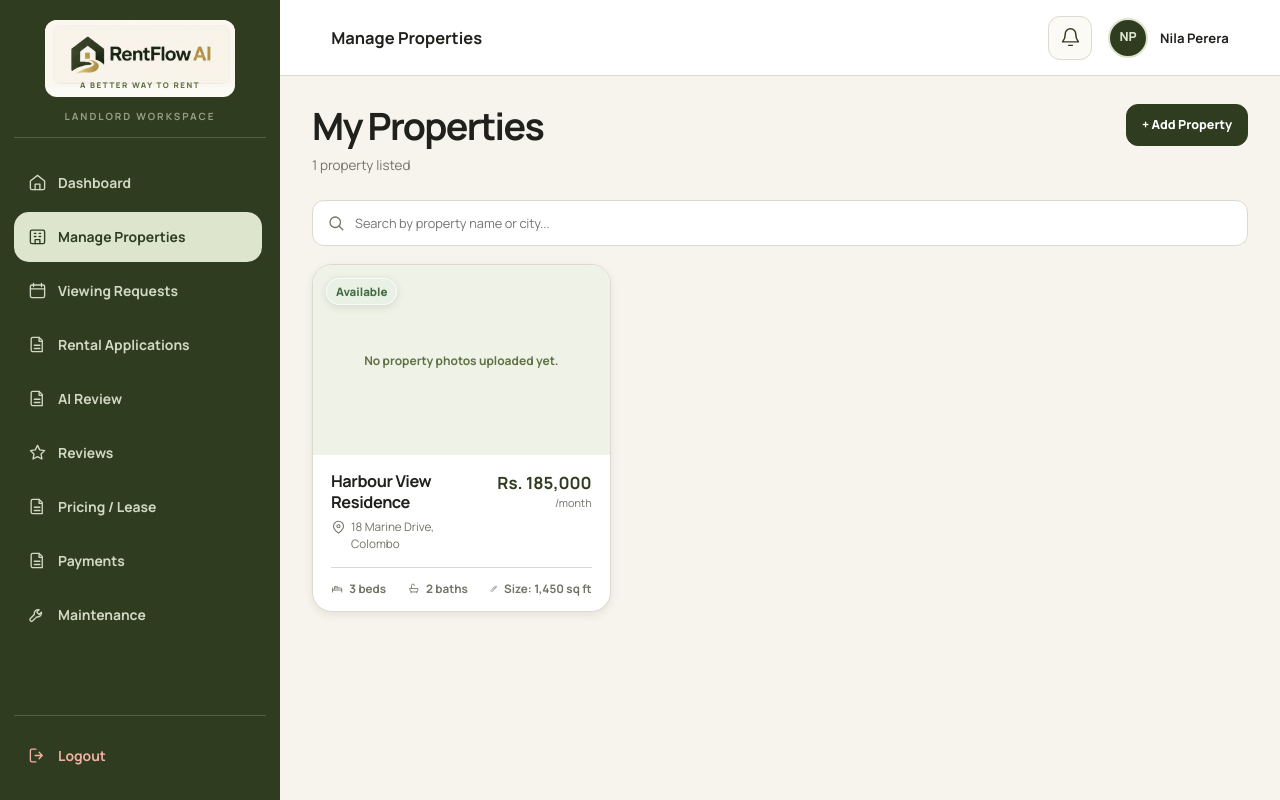
owned property landlord workflow integration › keeps My Properties list-only and navigates to the dedicated create route
This screenshot has width=1280, height=800.
Expected: the heading "Harbour View Residence" is shown, top-left (331, 470), bottom-right (431, 513)
Expected: the field labelled "Property title" is not shown
Click the link "+ Add Property".
click(1187, 125)  # box top-left (1126, 104), bottom-right (1248, 146)
(page scrolled)
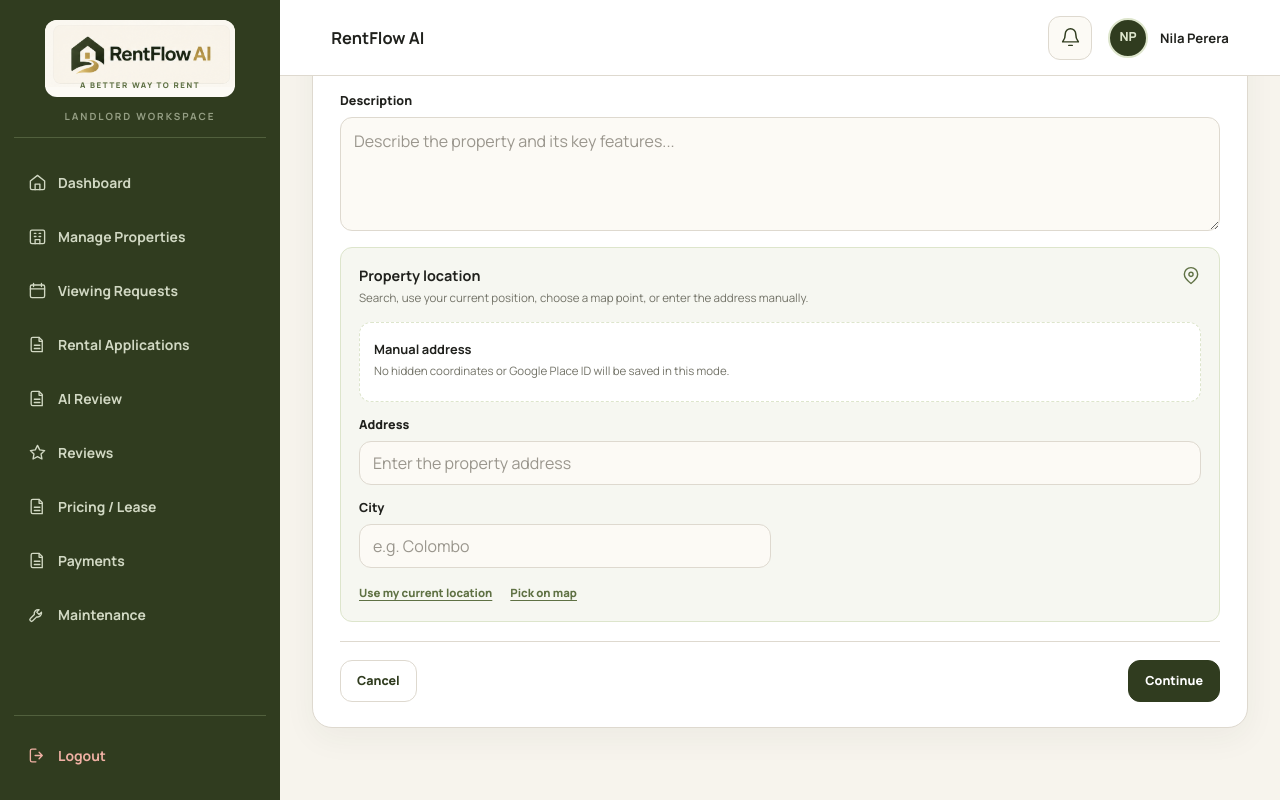
Now the field labelled "Property title" is shown, box top-left (340, 32), bottom-right (1220, 76)
Now the button "Continue" is shown, box top-left (1128, 660), bottom-right (1220, 702)
